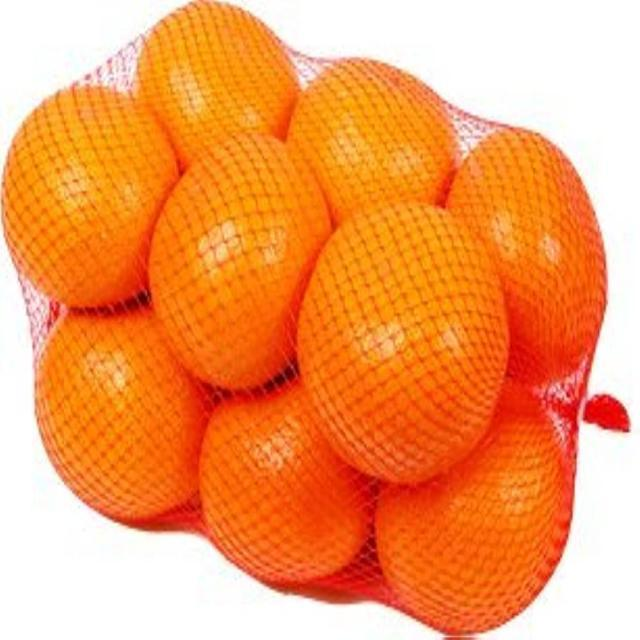Orange: (302, 200, 514, 486), (2, 85, 184, 308), (298, 52, 466, 224)
